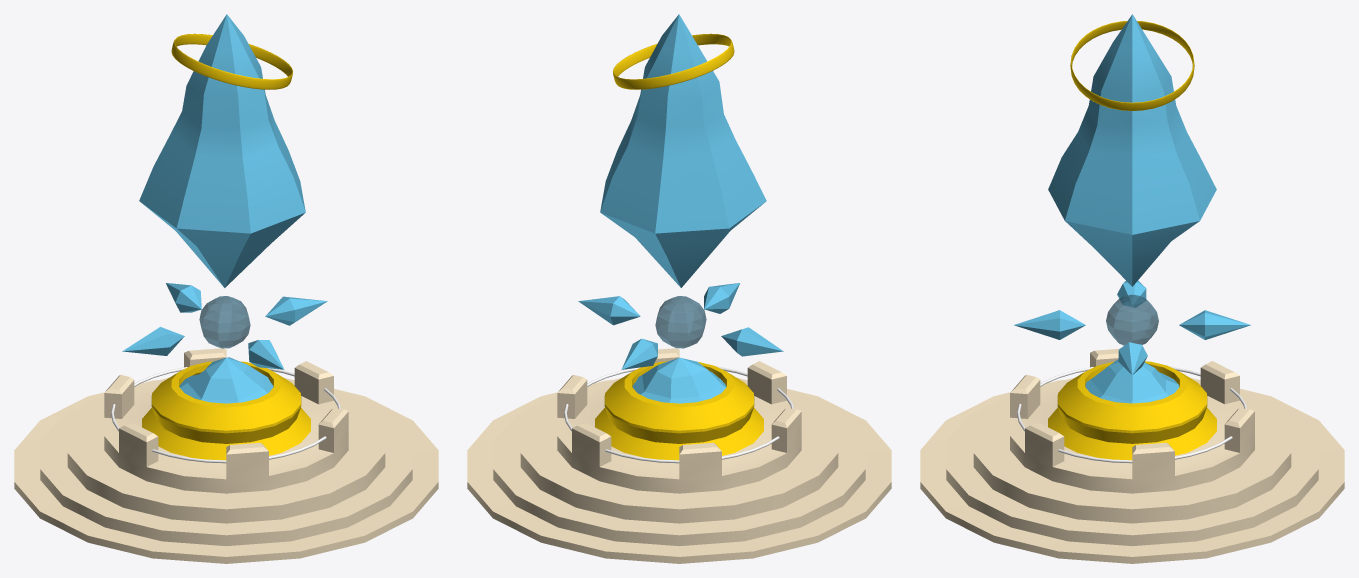
File: Crystal Altar.fbx
The picture shows the model from 3 angles, left to right: view 1: azimuth 30°, elevation 25°; view 2: azimuth 150°, elevation 25°; view 3: azimuth 270°, elevation 25°; orthographic projection.
Parts seen in each view (by area): view 1: Base, BigCrystal, SmallCrystals, InferiorCrystal, Ring, CrystalBall; view 2: Base, BigCrystal, SmallCrystals, InferiorCrystal, Ring, CrystalBall; view 3: Base, BigCrystal, SmallCrystals, InferiorCrystal, Ring, CrystalBall.
Part boxes in pixels (x1,y1,x2,y2): Base: [14, 348, 438, 563]; BigCrystal: [139, 14, 305, 287]; SmallCrystals: [122, 283, 327, 369]; InferiorCrystal: [179, 357, 273, 403]; Ring: [171, 33, 292, 89]; CrystalBall: [199, 296, 250, 348]; Base: [467, 348, 891, 563]; BigCrystal: [600, 14, 766, 287]; SmallCrystals: [578, 283, 783, 369]; InferiorCrystal: [632, 357, 726, 403]; Ring: [613, 33, 734, 89]; CrystalBall: [655, 296, 706, 348]; Base: [920, 348, 1344, 563]; BigCrystal: [1048, 14, 1216, 286]; SmallCrystals: [1014, 280, 1250, 374]; InferiorCrystal: [1085, 359, 1179, 403]; Ring: [1070, 21, 1194, 110]; CrystalBall: [1106, 294, 1158, 345].
Size of the model in its own units: 2.79 by 3.28 by 2.75.
